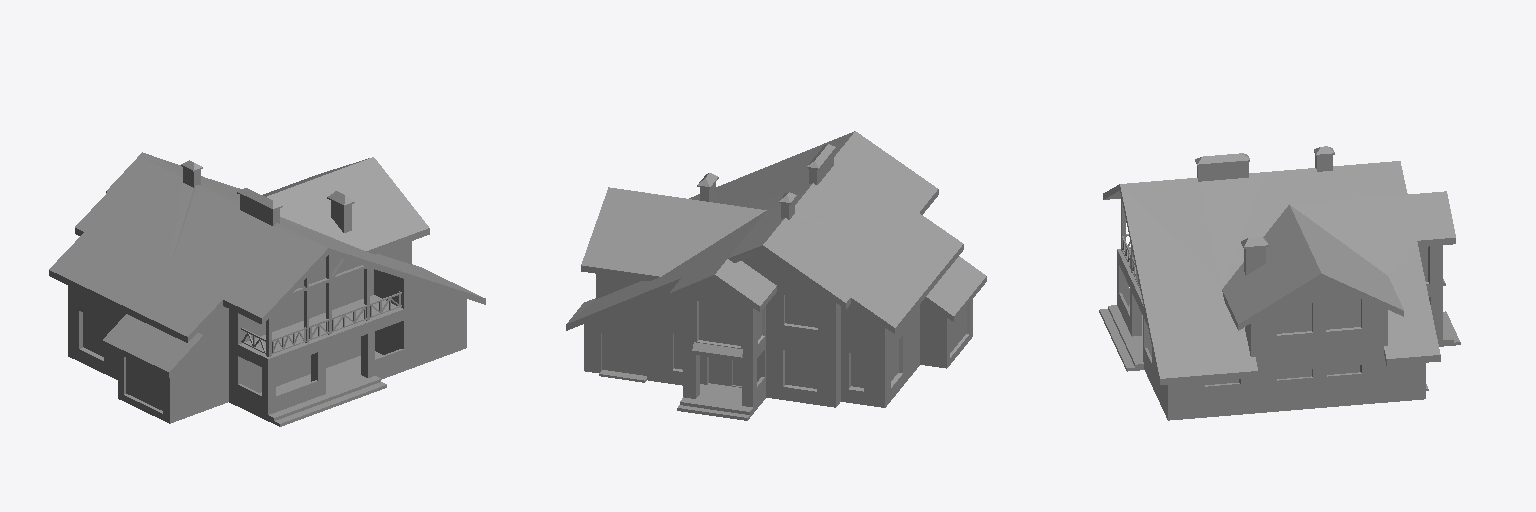
The model's file is alpine_cabin.obj.
3 views of the same model, side by side, from view 1: azimuth 30°, elevation 25°; view 2: azimuth 150°, elevation 25°; view 3: azimuth 270°, elevation 25° (orthographic).
Parts seen in each view (by area): view 1: Alpine_chalet_Cube; view 2: Alpine_chalet_Cube; view 3: Alpine_chalet_Cube.
Boxes of the visible parts, box(x1,y1,x2,y2) form: Alpine_chalet_Cube: box(49, 152, 485, 426); Alpine_chalet_Cube: box(566, 131, 986, 420); Alpine_chalet_Cube: box(1099, 146, 1460, 420).
Bounding box in the file's own units: 11.12 × 5.56 × 10.24.